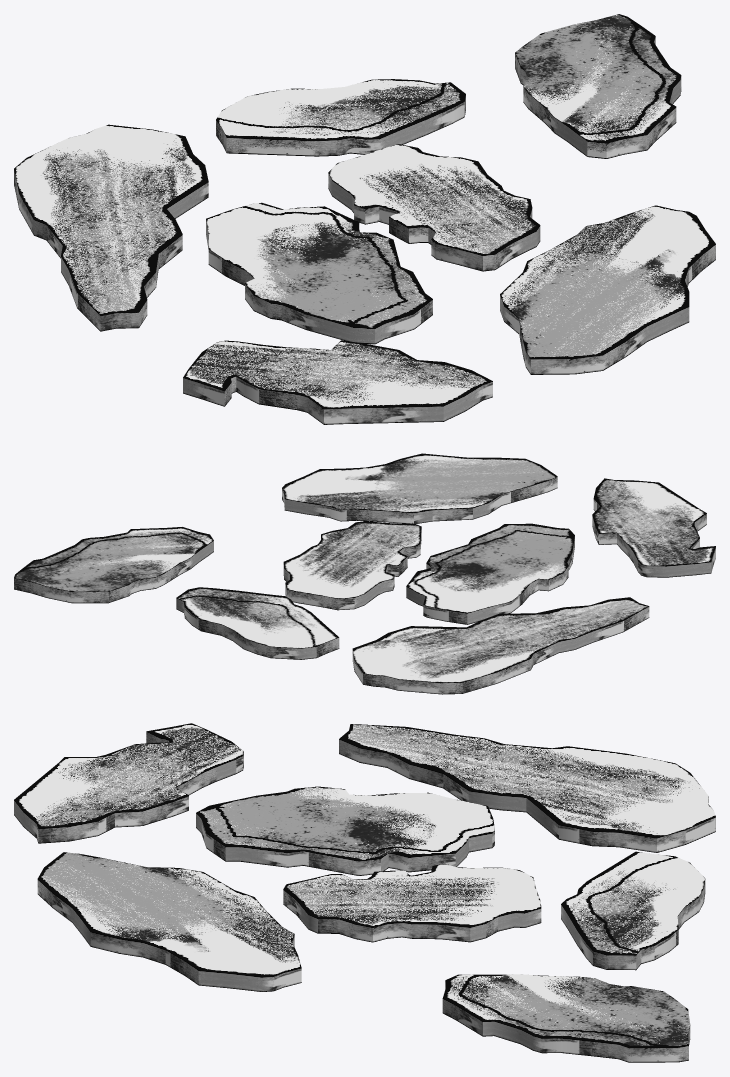
Rendered from Plaster.fbx.
The picture shows the model from 3 angles, top to bottom: view 1: azimuth 30°, elevation 25°; view 2: azimuth 150°, elevation 25°; view 3: azimuth 270°, elevation 25°; orthographic projection. The views are drawn at different scales.
Parts seen in each view (by area): view 1: Plaster06, Plaster00, Plaster04, Plaster01, Plaster02, Plaster03, Plaster05; view 2: Plaster06, Plaster00, Plaster04, Plaster02, Plaster01, Plaster03, Plaster05; view 3: Plaster06, Plaster00, Plaster04, Plaster02, Plaster01, Plaster03, Plaster05.
Part boxes in pixels (bbox=[...]): Plaster06: bbox=[14, 124, 208, 331]; Plaster00: bbox=[500, 205, 715, 374]; Plaster04: bbox=[206, 202, 432, 344]; Plaster01: bbox=[183, 340, 492, 424]; Plaster02: bbox=[515, 14, 681, 158]; Plaster03: bbox=[328, 144, 540, 271]; Plaster05: bbox=[216, 79, 465, 156]; Plaster06: bbox=[352, 597, 649, 694]; Plaster00: bbox=[282, 453, 557, 523]; Plaster04: bbox=[406, 523, 574, 624]; Plaster02: bbox=[14, 527, 213, 603]; Plaster01: bbox=[592, 478, 715, 577]; Plaster03: bbox=[283, 521, 421, 610]; Plaster05: bbox=[176, 587, 339, 659]; Plaster06: bbox=[339, 724, 715, 852]; Plaster00: bbox=[37, 852, 301, 991]; Plaster04: bbox=[196, 786, 494, 875]; Plaster02: bbox=[442, 974, 690, 1062]; Plaster01: bbox=[14, 723, 243, 843]; Plaster03: bbox=[283, 863, 541, 942]; Plaster05: bbox=[561, 851, 705, 970].
Size of the model in its own units: 45.83 by 1 by 41.91.
Materials: 1 (1 with a texture image).
